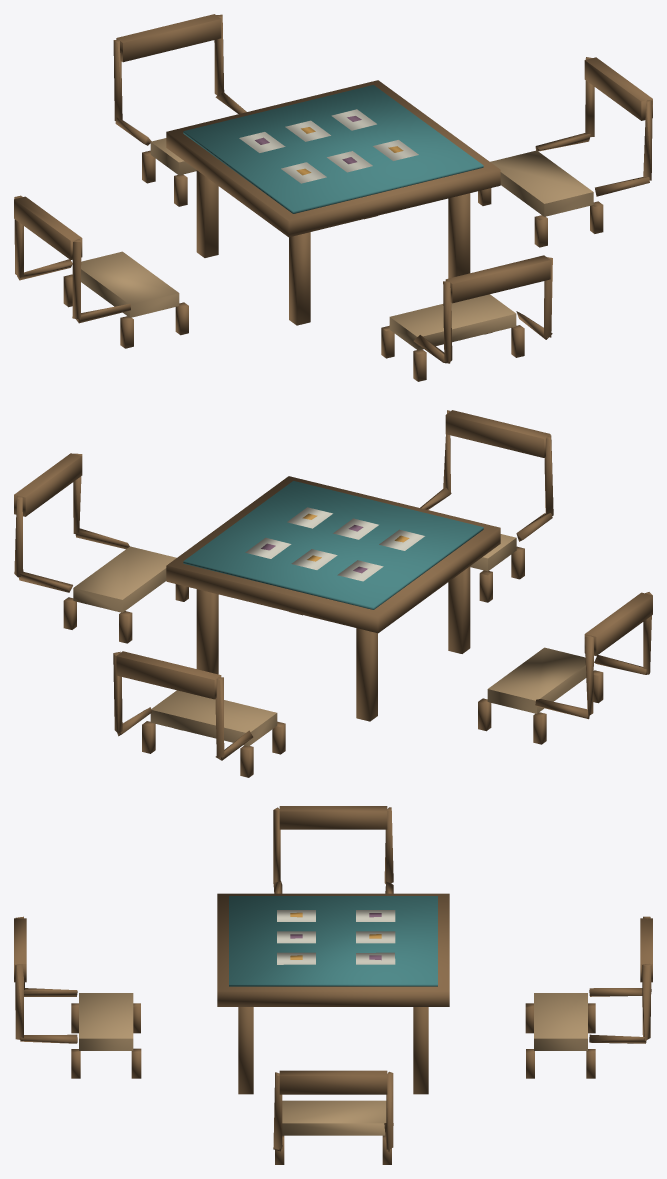
File: table_cards_low.glb
3 views of the same model, one above another, from view 1: azimuth 30°, elevation 25°; view 2: azimuth 150°, elevation 25°; view 3: azimuth 270°, elevation 25° (orthographic). The views are drawn at different scales.
Size of the model in its own units: 3.8 by 0.764 by 3.8.
